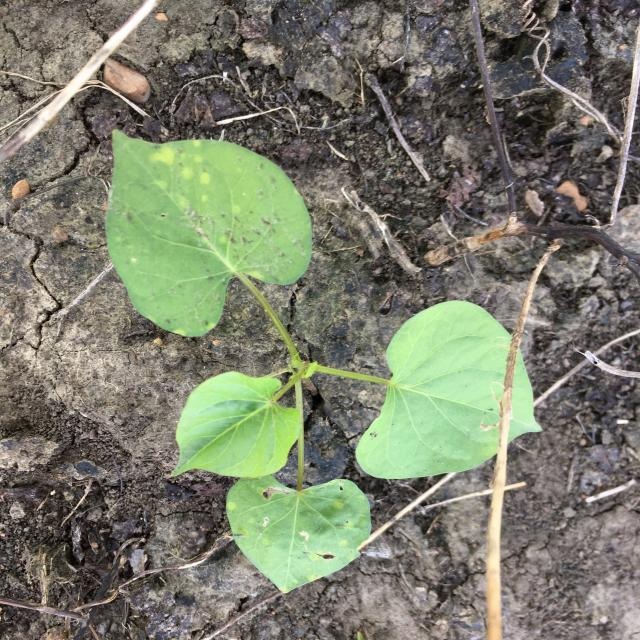MorningGlory: (106, 128, 544, 594)
